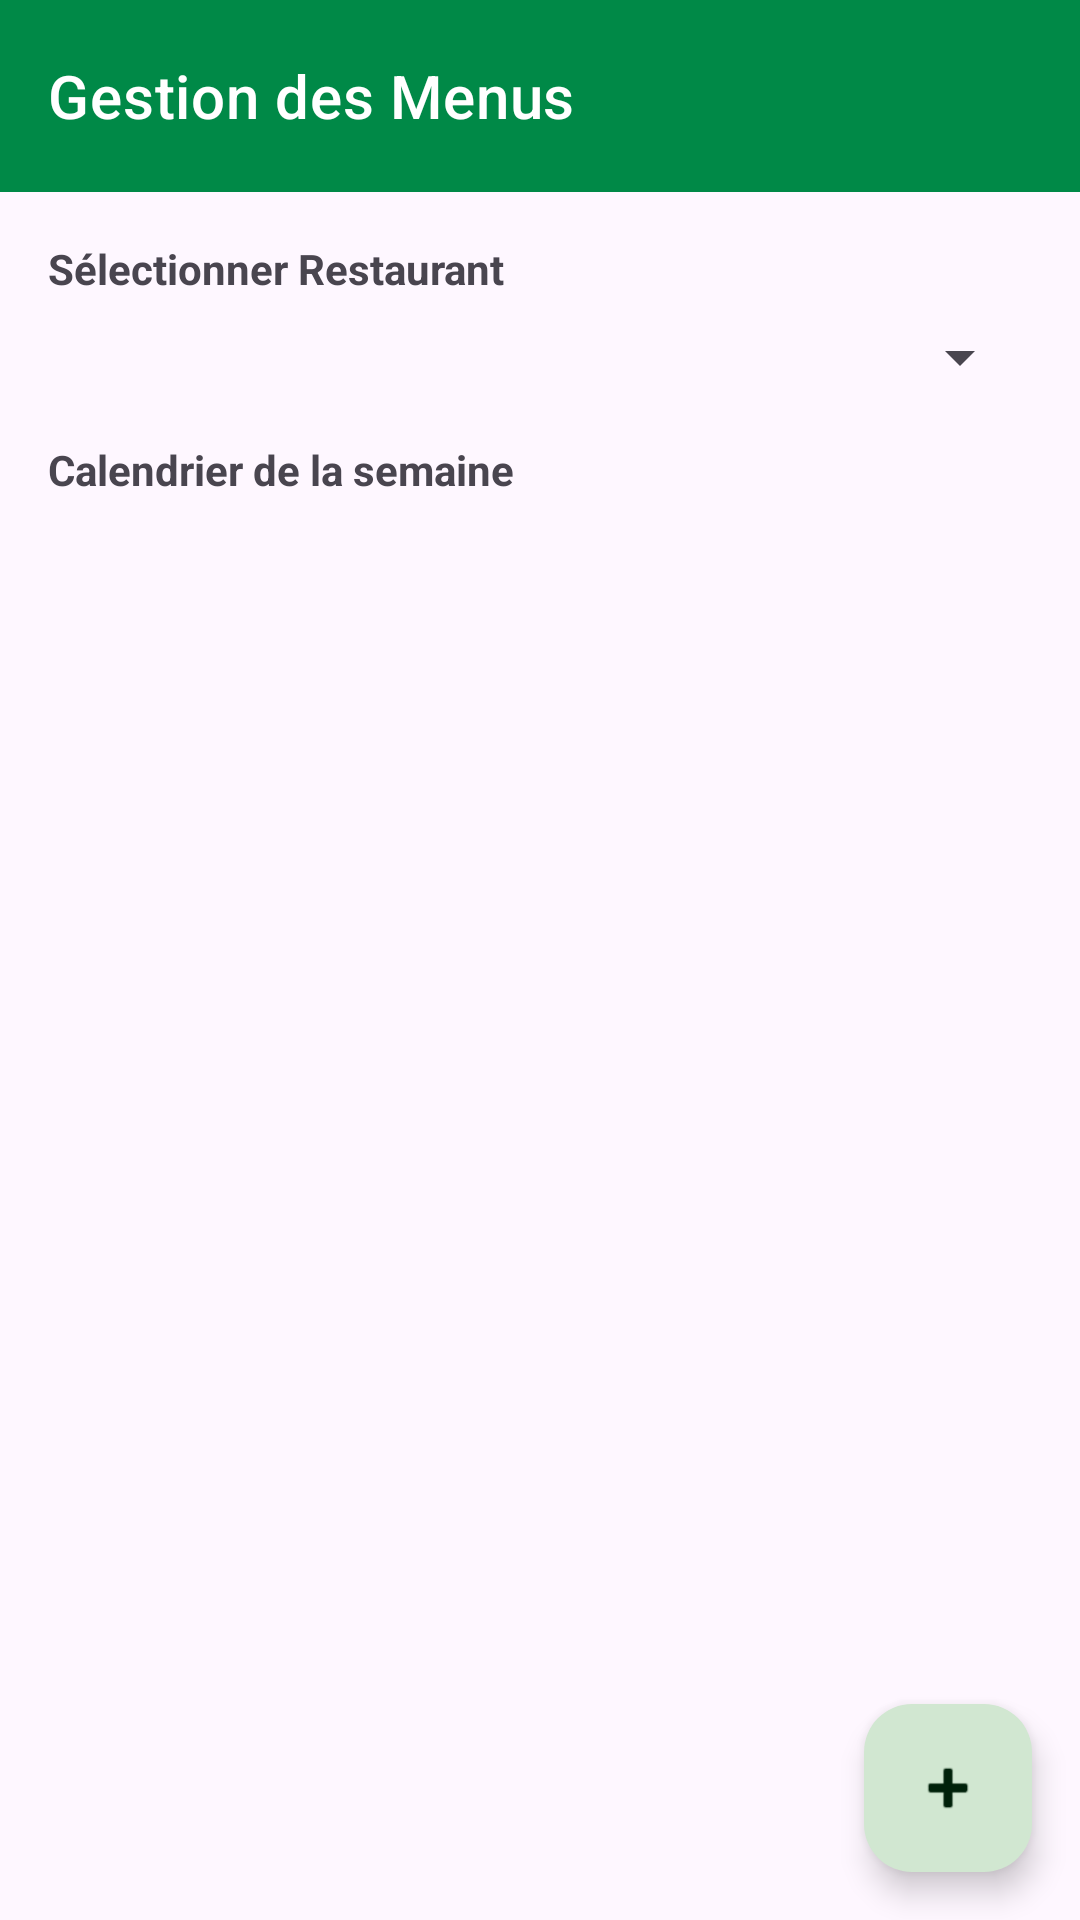

Named icons in this screenshot (1080 x 1920) and their centers, point (x, y):
Ajouter un plat: point (948, 1788)
